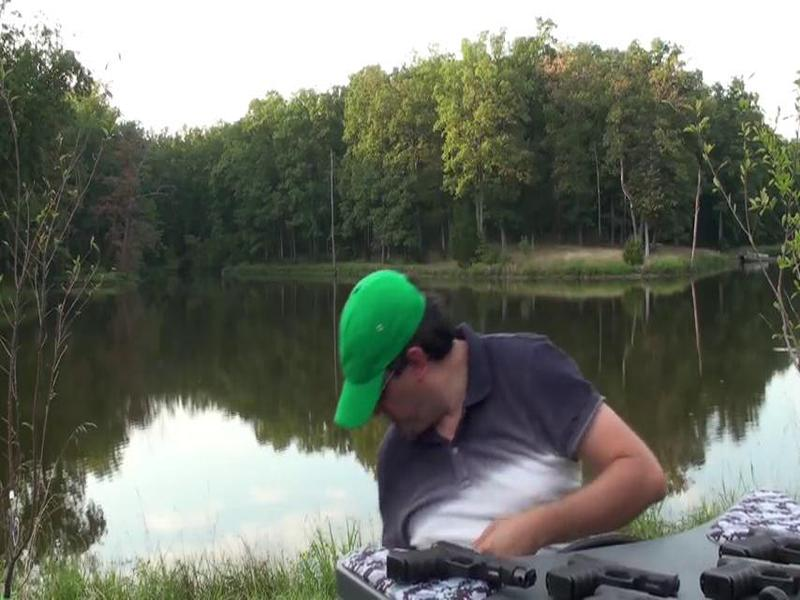Pistola: (376, 524, 535, 600), (551, 524, 686, 600)
